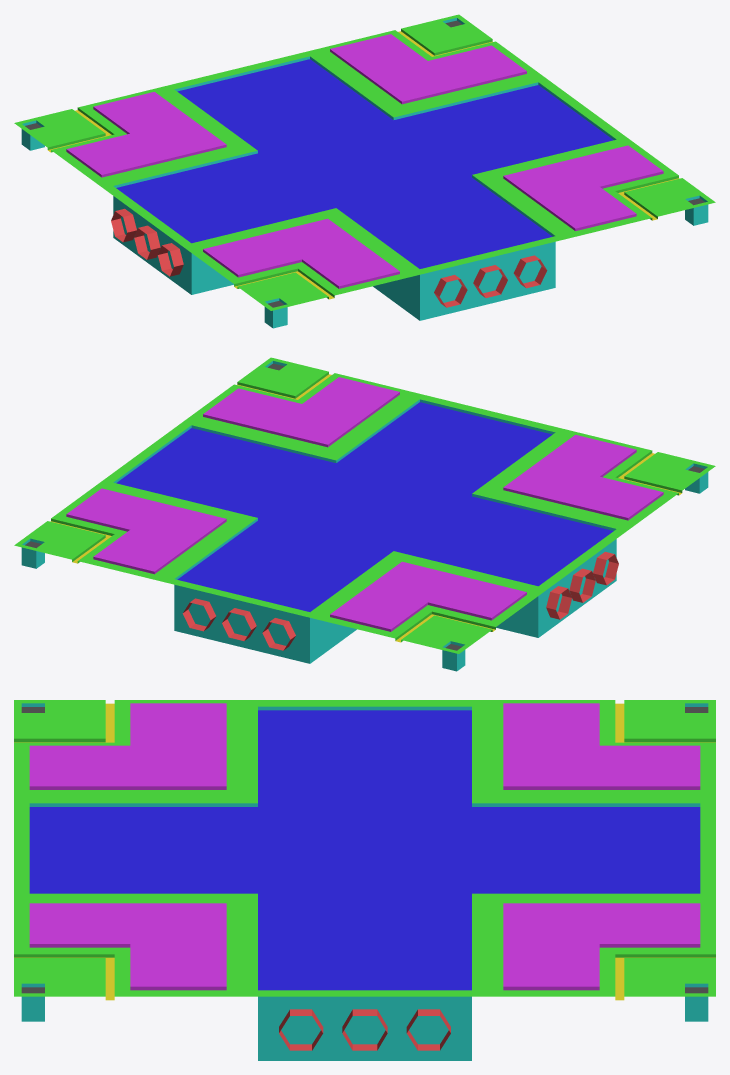
Rendered from Floor_12_Cross.fbx.
3 renders of one model, top to bottom at view 1: azimuth 30°, elevation 25°; view 2: azimuth 150°, elevation 25°; view 3: azimuth 270°, elevation 25°, orthographic. The views are drawn at different scales.
Parts seen in each view (by area): view 1: Floor_12_Cross; view 2: Floor_12_Cross; view 3: Floor_12_Cross.
Boxes of the visible parts, x1=… form: Floor_12_Cross: x1=14, y1=14, x2=715, y2=328; Floor_12_Cross: x1=14, y1=357, x2=715, y2=671; Floor_12_Cross: x1=14, y1=700, x2=715, y2=1060.
Size of the model in its own units: 229 by 26.67 by 229.
